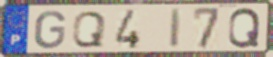4: (113, 8, 142, 50)
7: (192, 6, 221, 51)
G: (33, 10, 68, 50)
I: (168, 8, 184, 50)
Q: (227, 6, 262, 49), (71, 10, 108, 49)
